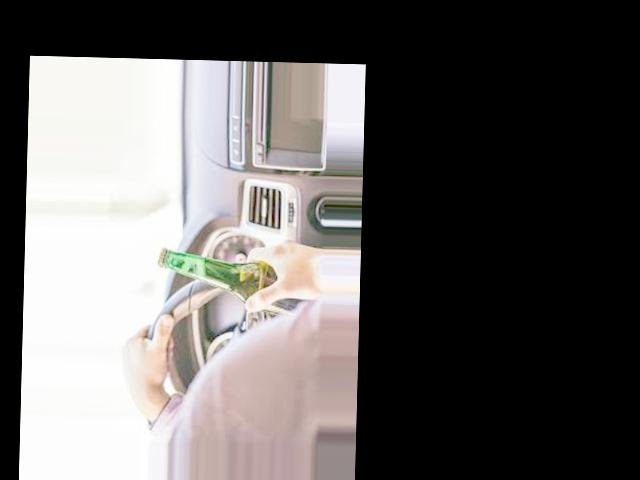beer: (155, 247, 308, 315)
